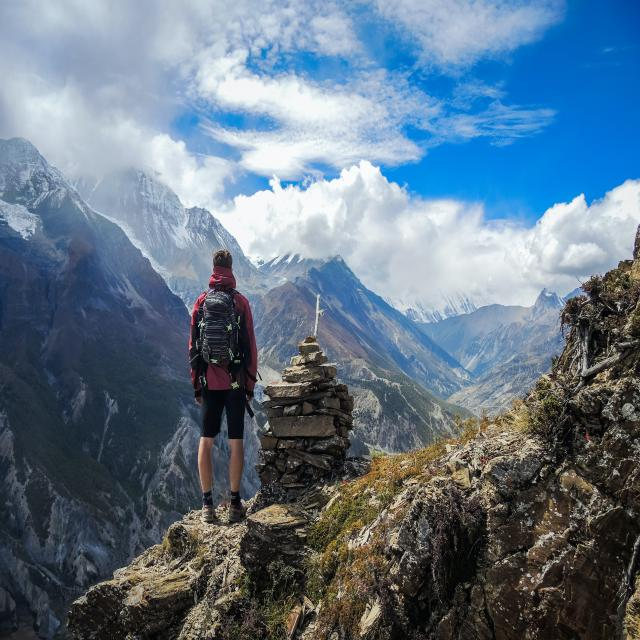standing: (187, 248, 262, 531)
